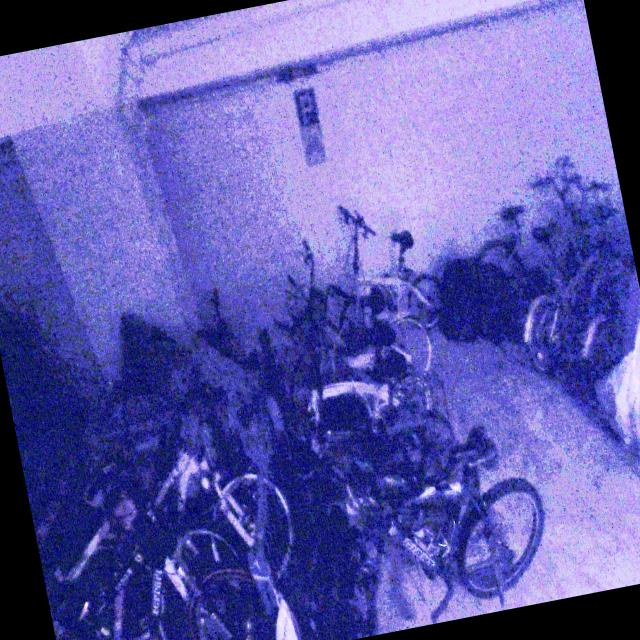bike: (61, 394, 309, 640), (303, 414, 562, 640), (24, 435, 261, 640), (276, 340, 466, 504), (495, 169, 640, 374), (272, 220, 438, 394), (311, 192, 449, 348), (464, 167, 604, 320)
